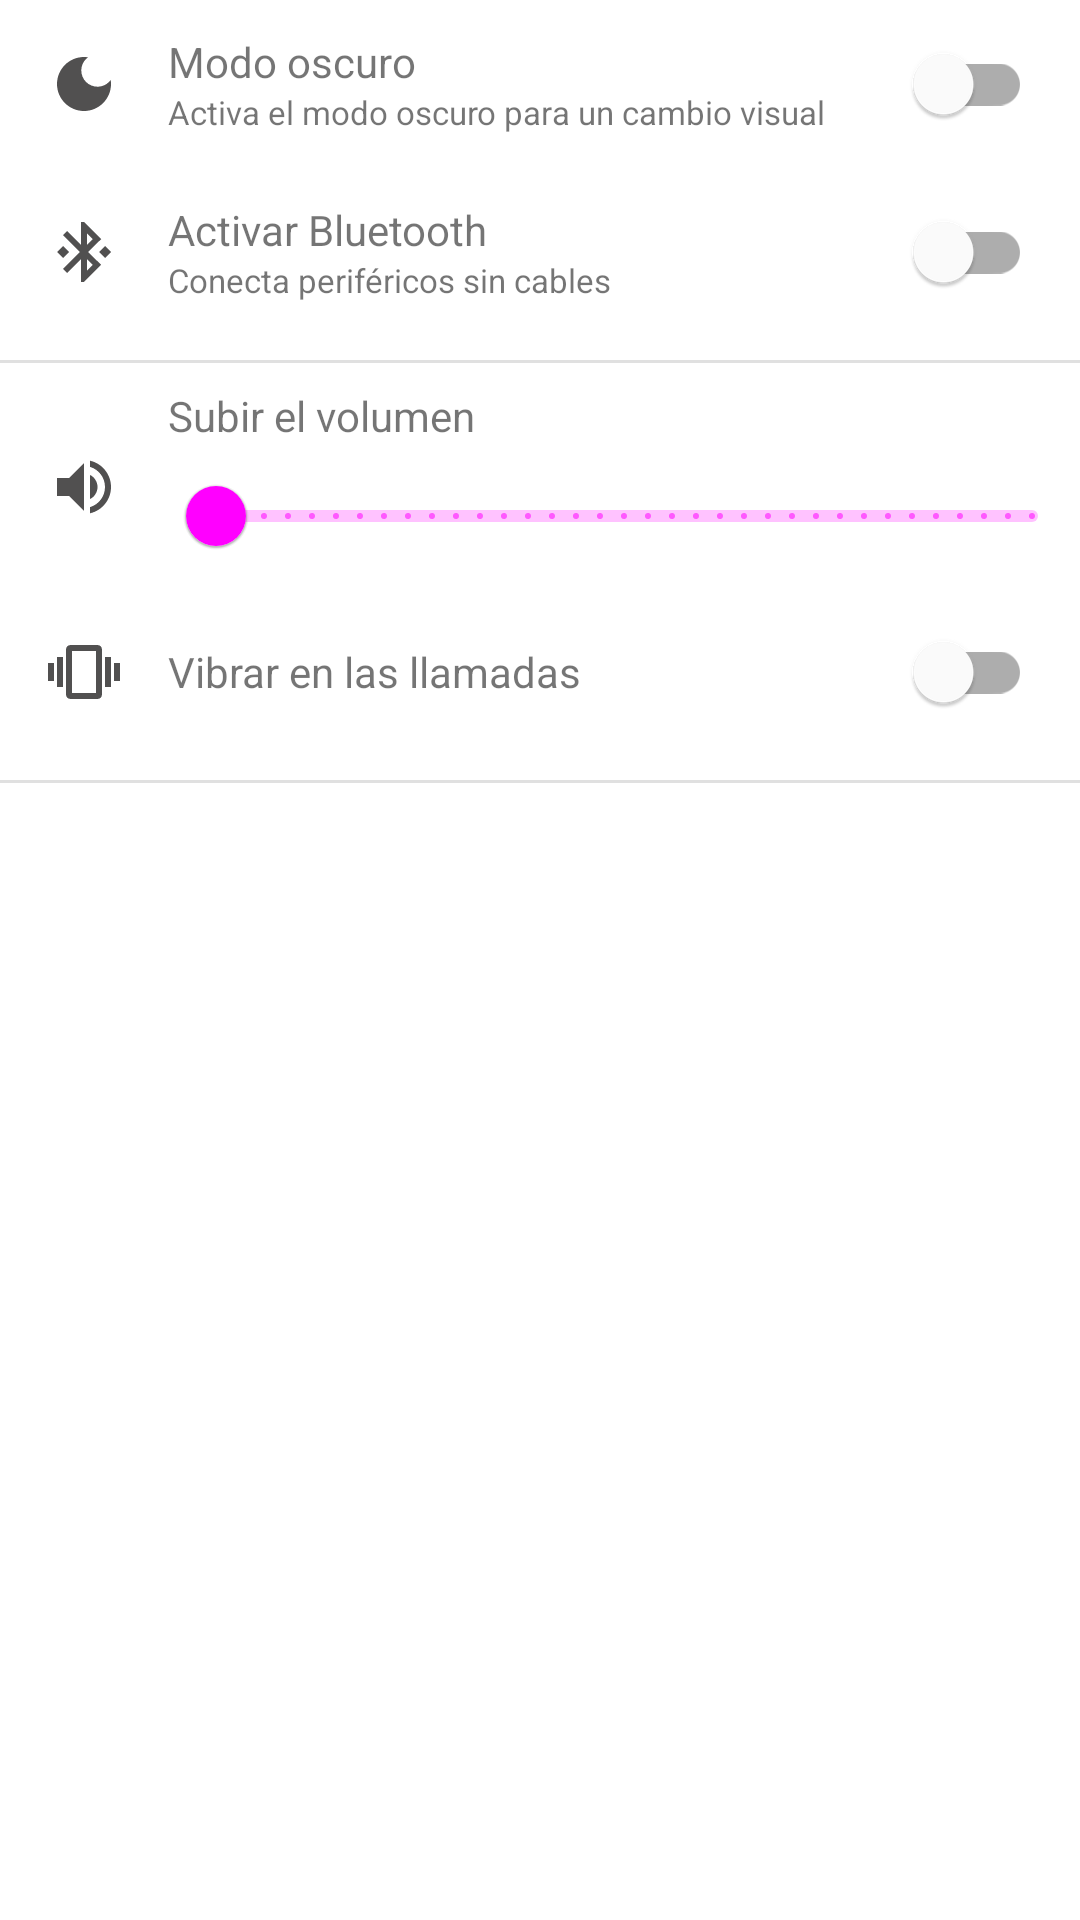

Named icons in this screenshot (1080x1920) and their bounding boxes, box(x1, y1, x2, y2):
settings mode: box(57, 57, 111, 111)
settings vibration: box(48, 645, 120, 699)
settings volume up: box(57, 460, 111, 514)
